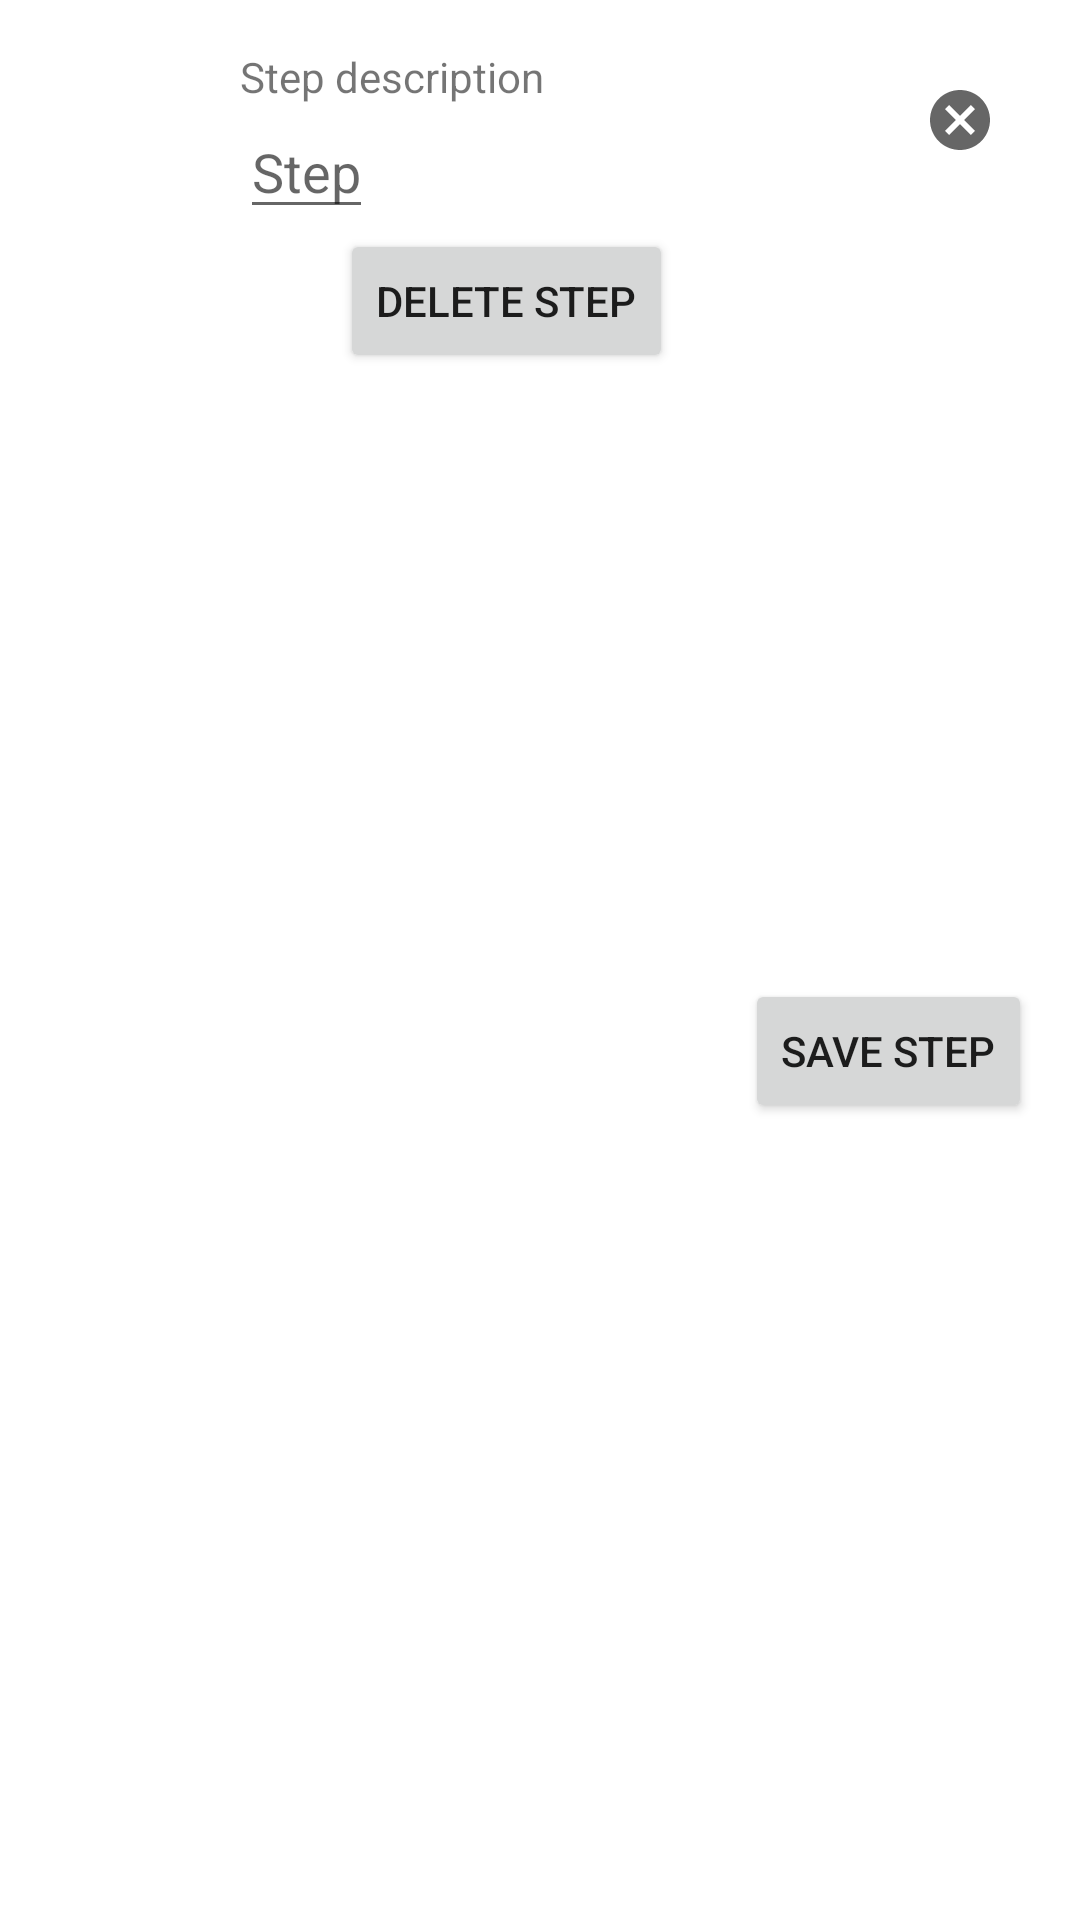

Icon click points for this 1080×1920 phone screenshot, format [x,y]:
cancel: [960,120]
